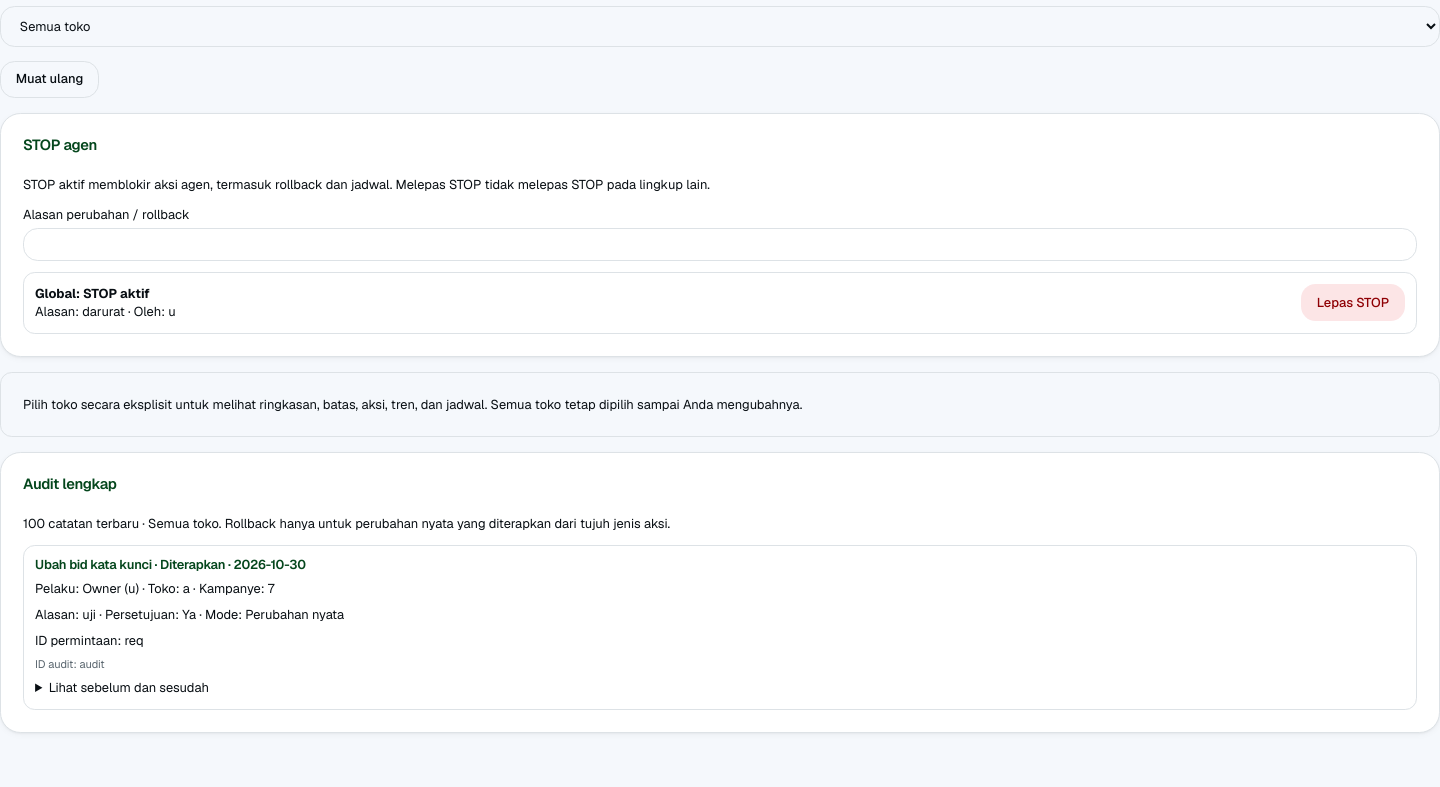
STOP blocks action and rollback before mock transport
Select "Demo" in the dropdown labelled "Toko". click: (720, 26)
box: x1=0 y1=6 x2=1439 y2=47
(page scrolled)
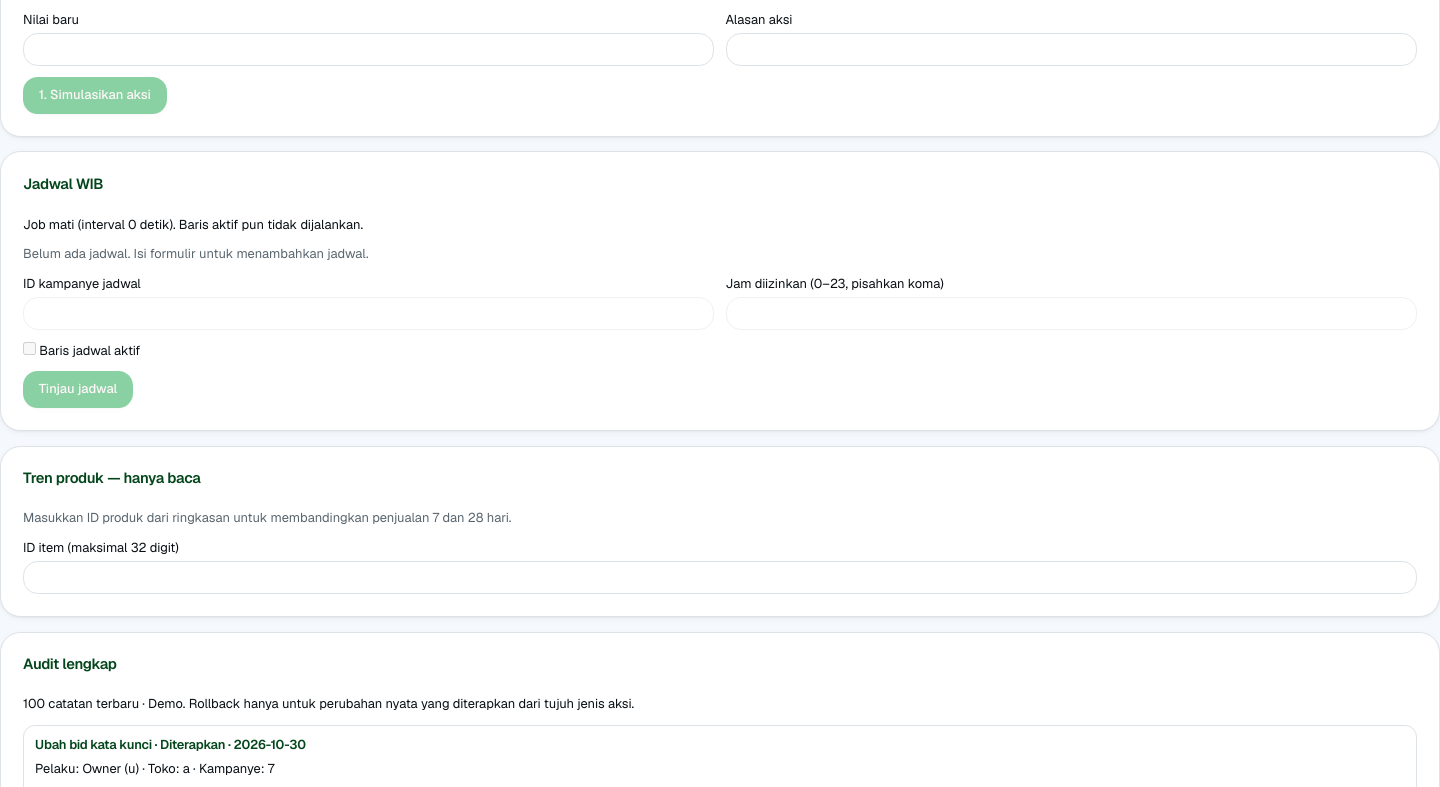
Expected: the button "1. Simulasikan aksi" is disabled, x1=23 y1=77 x2=166 y2=114
Expected: the button "Tinjau jadwal" is disabled, x1=23 y1=371 x2=133 y2=408
